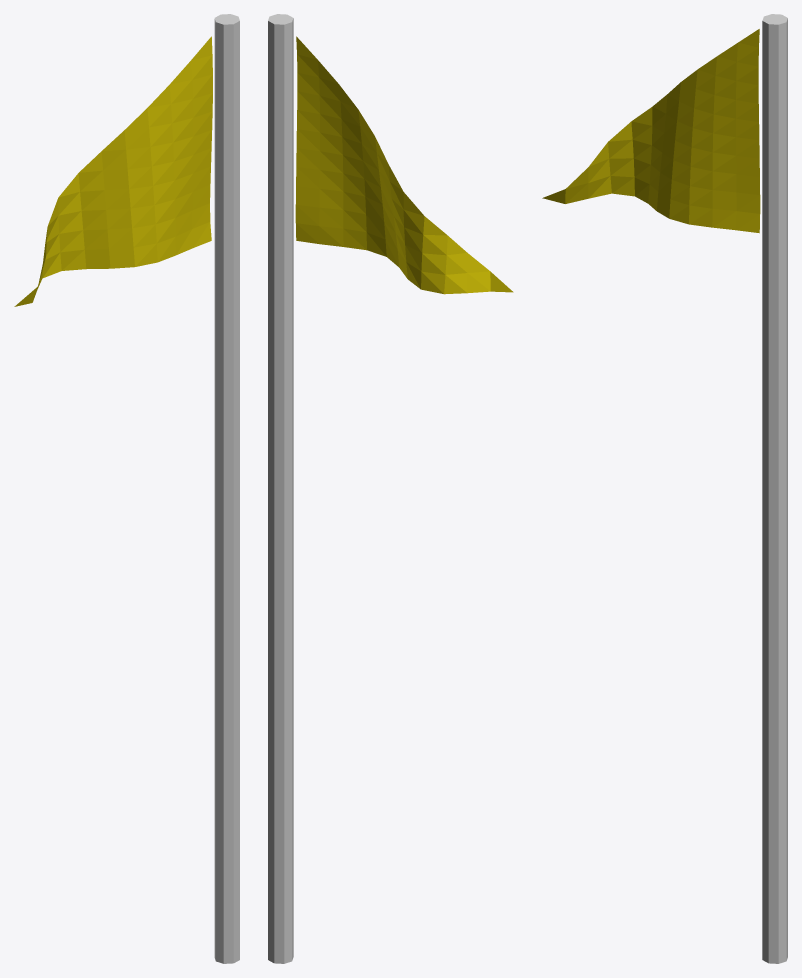
The model's file is flag3.glb.
3 views of the same model, side by side, from view 1: azimuth 30°, elevation 25°; view 2: azimuth 150°, elevation 25°; view 3: azimuth 330°, elevation 25° (orthographic).
Visible parts, largest first — view 1: Cylinder_001_6_0, Plane; view 2: Cylinder_001_6_0, Plane; view 3: Cylinder_001_6_0, Plane.
Part boxes in pixels (x1,y1,x2,y2): Cylinder_001_6_0: (214, 14, 239, 963); Plane: (14, 36, 212, 306); Cylinder_001_6_0: (268, 14, 293, 963); Plane: (295, 36, 513, 294); Cylinder_001_6_0: (762, 14, 787, 963); Plane: (542, 29, 760, 233).
Size of the model in its own units: 0.5681 by 2.17 by 0.0986.
